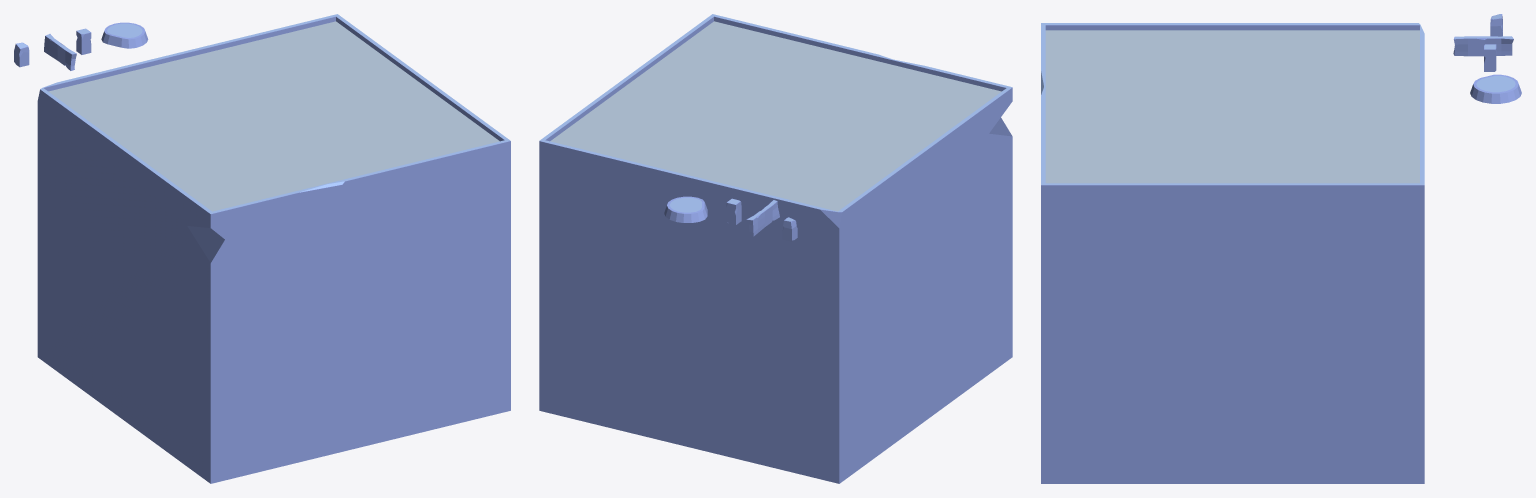
Rendered from Lobby.glb.
3 views of the same model, side by side, from view 1: azimuth 30°, elevation 25°; view 2: azimuth 150°, elevation 25°; view 3: azimuth 270°, elevation 25° (orthographic). The views are drawn at different scales.
Visible parts, largest first — view 1: Plane.001-col, Ground-col, Plane.002, Rock_Template-noimp, Wall_Template-noimp; view 2: Plane.001-col, Ground-col, Plane.002, Rock_Template-noimp, Wall_Template-noimp; view 3: Plane.001-col, Ground-col, Plane.002, Wall_Template-noimp, Rock_Template-noimp, Circle.024.
Part boxes in pixels (x1=…): Plane.001-col: x1=37, y1=16, x2=510, y2=483; Ground-col: x1=48, y1=21, x2=499, y2=211; Plane.002: x1=40, y1=14, x2=510, y2=213; Rock_Template-noimp: x1=101, y1=22, x2=148, y2=48; Wall_Template-noimp: x1=44, y1=34, x2=76, y2=70; Plane.001-col: x1=539, y1=16, x2=1012, y2=483; Ground-col: x1=550, y1=21, x2=1001, y2=211; Plane.002: x1=539, y1=14, x2=1012, y2=211; Rock_Template-noimp: x1=664, y1=196, x2=707, y2=222; Wall_Template-noimp: x1=746, y1=200, x2=779, y2=236; Plane.001-col: x1=1041, y1=25, x2=1424, y2=483; Ground-col: x1=1045, y1=30, x2=1419, y2=183; Plane.002: x1=1041, y1=23, x2=1424, y2=184; Wall_Template-noimp: x1=1453, y1=36, x2=1513, y2=56; Rock_Template-noimp: x1=1470, y1=74, x2=1521, y2=103; Circle.024: x1=1476, y1=76, x2=1515, y2=92.
Bounding box in the file's own units: 62.03 × 56.38 × 77.78.
